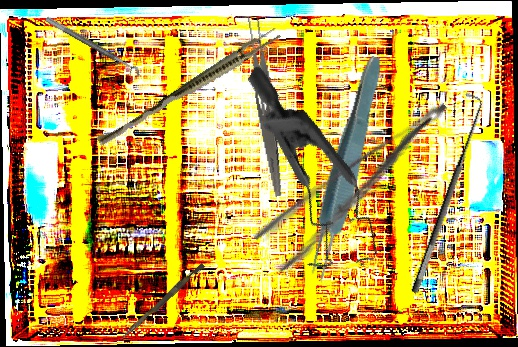Dressing Forceps: (250, 98, 472, 277), (242, 15, 291, 198)
Fixation Ring: (40, 15, 143, 84)
Hook Surgical: (395, 89, 492, 295)
Pusher: (119, 260, 206, 344)
Speculum: (181, 64, 429, 293)
Tissue Forceps: (96, 23, 282, 153), (300, 52, 391, 285)
